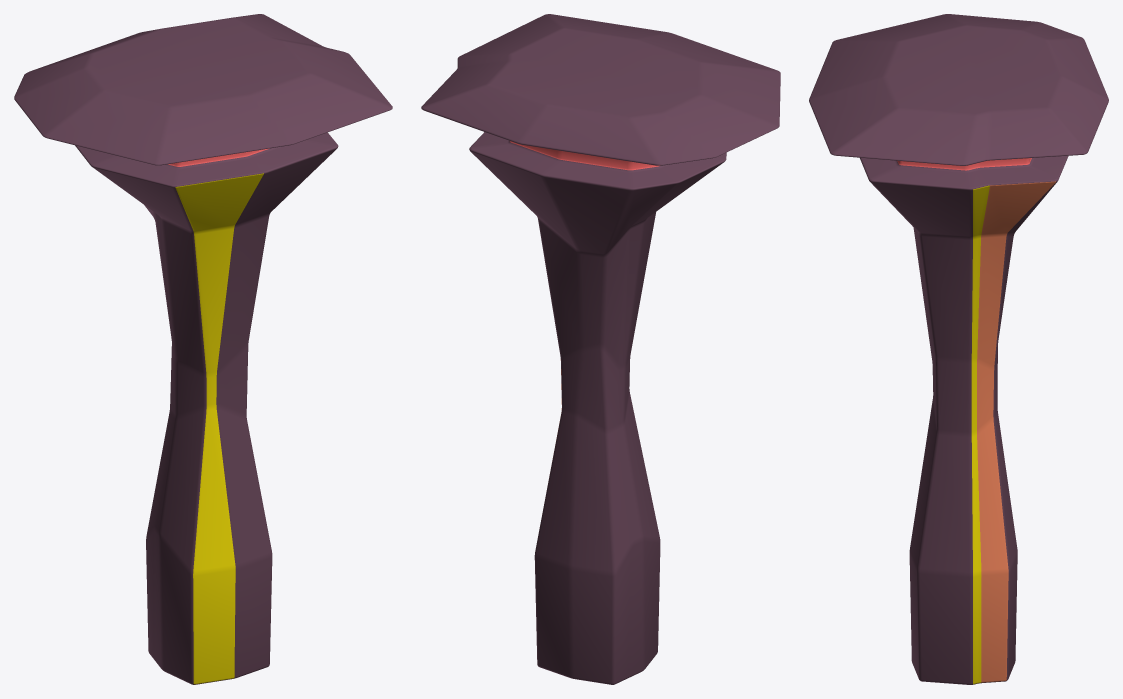
Rendered from alien_watch_tower.fbx.
3 renders of one model, left to right at view 1: azimuth 30°, elevation 25°; view 2: azimuth 150°, elevation 25°; view 3: azimuth 270°, elevation 25°, orthographic.
Visible parts, largest first — view 1: Cube; view 2: Cube; view 3: Cube.
Boxes of the visible parts, <box> form: Cube: <box>14,14,392,684</box>; Cube: <box>421,14,780,684</box>; Cube: <box>809,14,1108,684</box>.
Bounding box in the file's own units: 806 × 1461 × 675.
